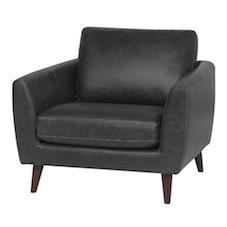chair: (6, 19, 213, 202)
